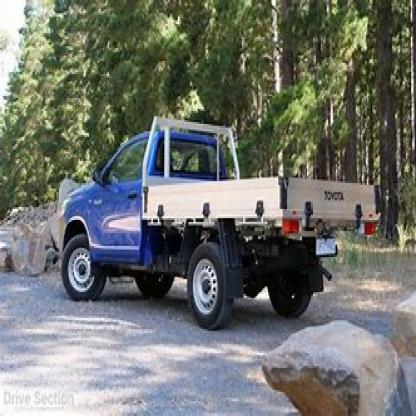light_vehicle: (52, 111, 384, 346)
